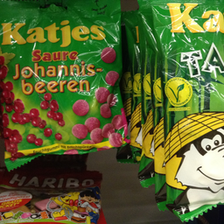candy: (1, 1, 122, 169), (149, 1, 224, 213)
